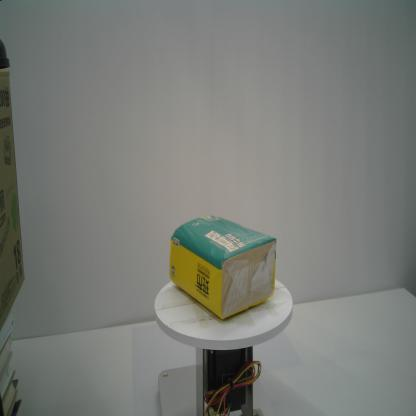Tissue: (168, 214, 279, 324)
